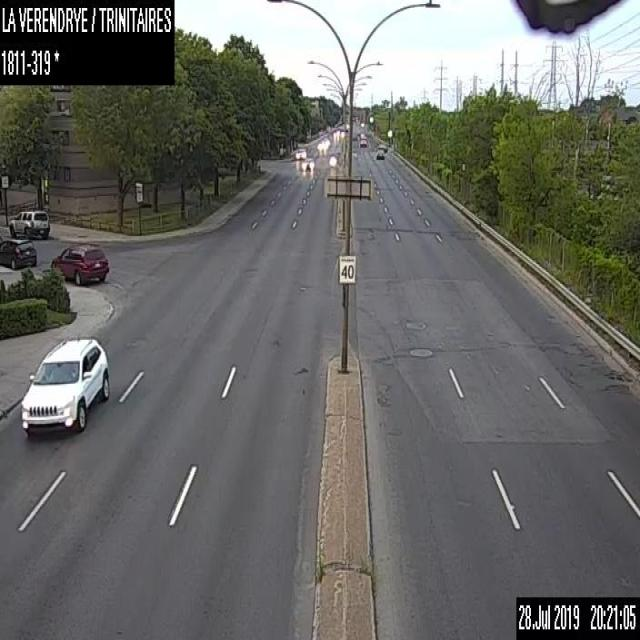vehicle: (18, 336, 110, 439), (50, 241, 109, 284), (8, 206, 50, 238), (0, 237, 36, 269), (302, 157, 314, 168), (375, 148, 385, 159), (295, 148, 306, 158), (377, 142, 387, 152), (317, 141, 326, 148), (359, 138, 366, 146), (360, 132, 364, 139)
